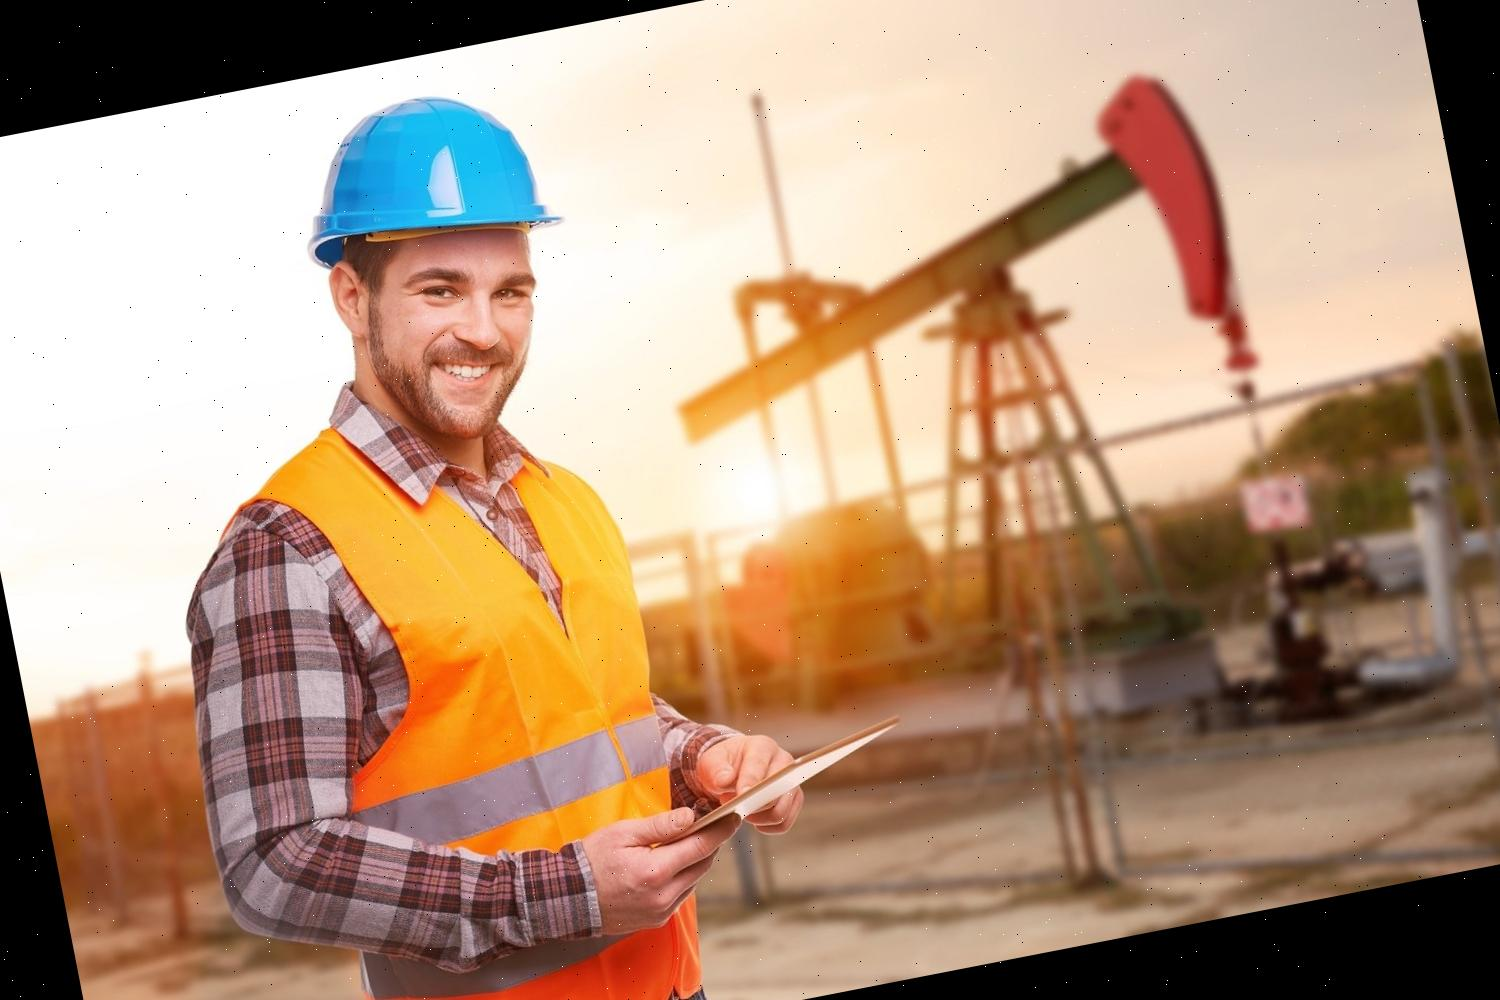helmet: (273, 67, 566, 279)
wear: (246, 420, 727, 1000)
